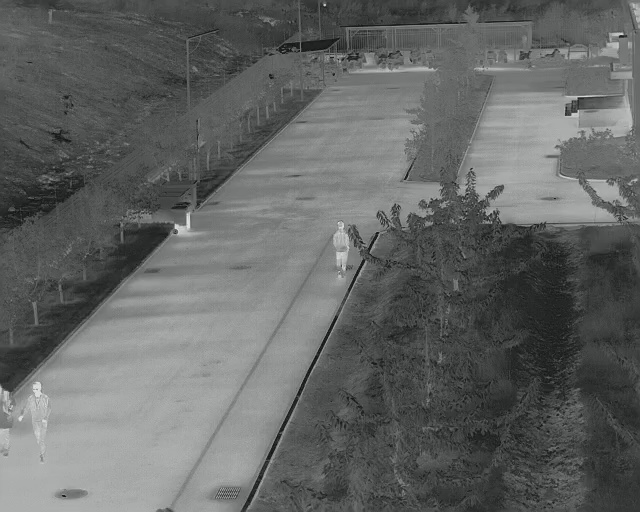person: (29, 383, 49, 464), (334, 221, 348, 278)
